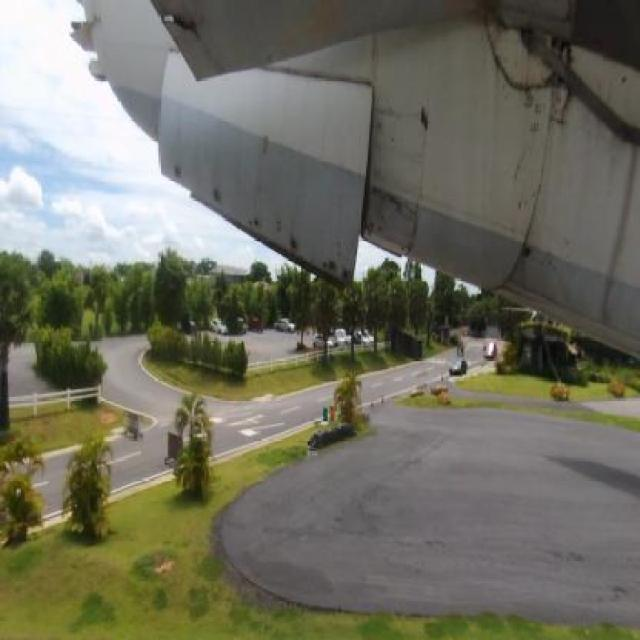Rust: (578, 84, 638, 328), (485, 147, 567, 315), (370, 75, 438, 267), (478, 13, 570, 136), (323, 242, 362, 293), (206, 168, 229, 224), (280, 220, 308, 265), (241, 197, 264, 241), (169, 151, 186, 187)
Scartch: (154, 4, 218, 50), (510, 73, 555, 118), (512, 150, 536, 216)
